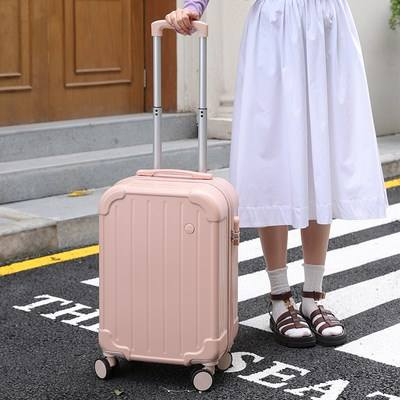box: (99, 177, 238, 365)
handle: (136, 169, 213, 181)
lock: (232, 215, 240, 247)
wheel: (94, 356, 121, 381), (189, 366, 214, 392), (215, 351, 233, 372)
